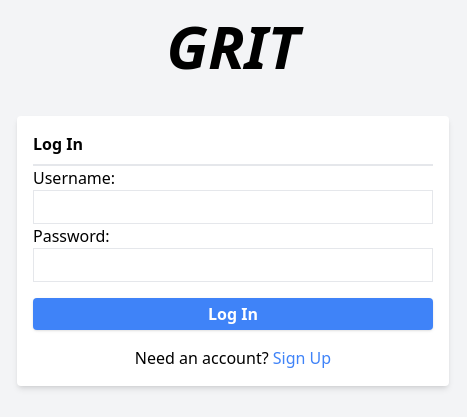
Test case: Login Page › logs in with password missing
This screenshot has width=467, height=417.
In the field with id "username": (233, 207) [33, 190, 433, 224], type "Conor"
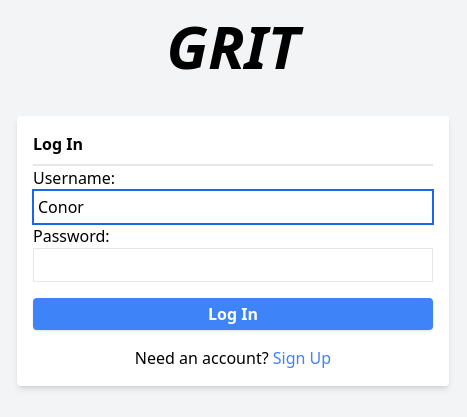
Click the button with test id "login-button": (233, 314) [33, 298, 433, 330]
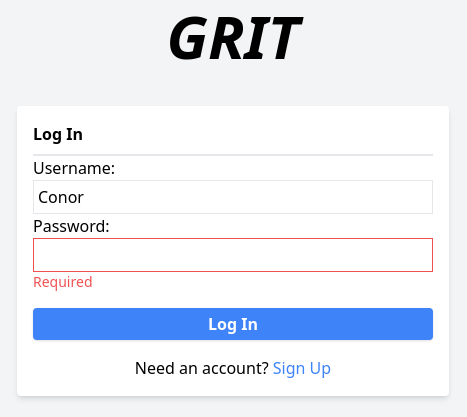
Expected: the text "Required" is shown, [33, 272, 92, 291]
